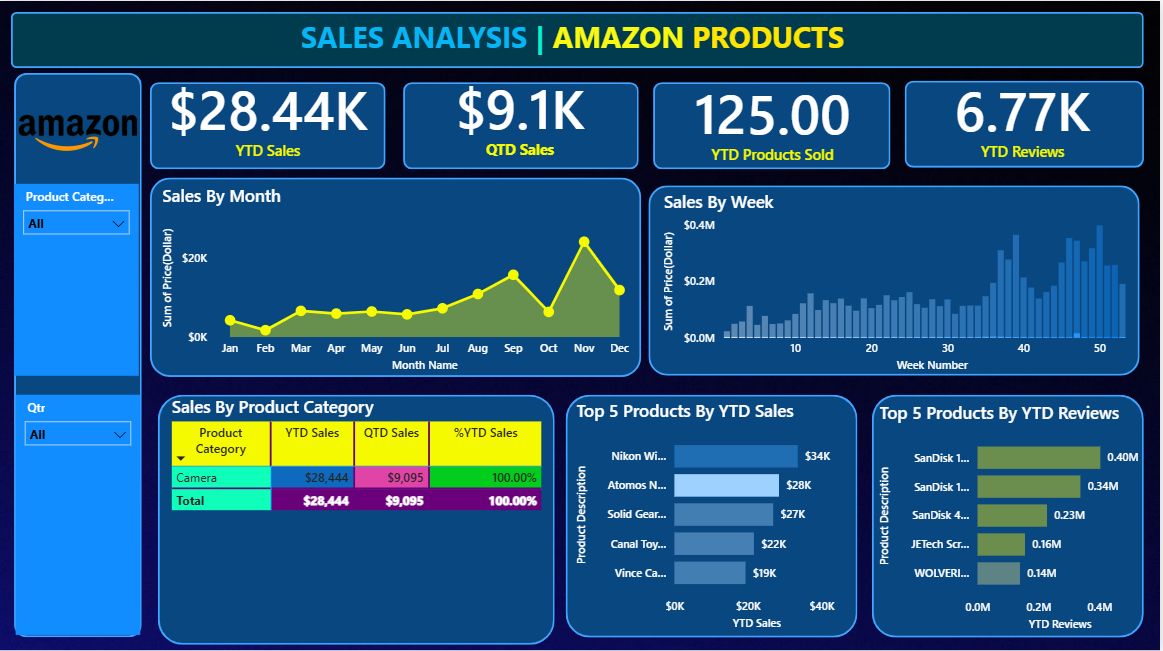

Layout of this report page (visuals, bound fields, positions):
{"tool":"powerbi","page":{"name":"Page 1","canvas":[1280,720],"ordinal":0},"visuals":[{"type":"shape","box":[12,12,1250,62],"z":0},{"type":"textbox","box":[15,12.5,1232.5,77.5],"z":1000},{"type":"shape","box":[15.3,79.8,140.9,622.9],"z":2000},{"type":"shape","box":[166,90,260,96],"z":3000},{"type":"card","fields":{"Values":["Amazon_Data.YTD Sales"]},"box":[166,68,260,118],"z":4000},{"type":"shape","box":[720,90,262,96],"z":5000},{"type":"shape","box":[444,90,260,96],"z":6000},{"type":"card","fields":{"Values":["Amazon_Data.QTD Sales"]},"box":[452,72,244,106],"z":7000},{"type":"shape","box":[998,88,264,96],"z":8000},{"type":"card","fields":{"Values":["Amazon_Data.YTD Products Sold"]},"box":[722,76,260,110],"z":9000},{"type":"card","fields":{"Values":["Amazon_Data.YTD Reviews"]},"box":[998,72,260,110],"z":10000},{"type":"shape","box":[166,194,542,220],"z":11000},{"type":"areaChart","title":"Sales By Month","fields":{"Category":["Date Table.Month Name"],"Y":["Sum(Amazon_Data.Price(Dollar))"]},"box":[174,202,530,212],"z":12000},{"type":"shape","box":[716,204,542,210],"z":13000},{"type":"columnChart","title":"Sales By Week","fields":{"Category":["Date Table.Week Number"],"Y":["Sum(Amazon_Data.Price(Dollar))"]},"box":[728,208,540,206],"z":14000},{"type":"shape","box":[174,434,438,276],"z":15000},{"type":"pivotTable","title":"Sales By Product Category ","fields":{"Rows":["Amazon_Data.Product Category"],"Values":["Amazon_Data.YTD Sales","Amazon_Data.QTD Sales","Amazon_Data.YTD Sales1"]},"box":[184,434,420,286],"z":16000},{"type":"shape","box":[624,434,322,268],"z":17000},{"type":"shape","box":[962,434,300,268],"z":18000},{"type":"clusteredBarChart","title":"Top 5 Products By YTD Sales","fields":{"Category":["Amazon_Data.Product Description"],"Y":["Amazon_Data.YTD Sales"]},"box":[631.2,439.1,314.1,259.4],"z":19000},{"type":"clusteredBarChart","title":"Top 5 Products By YTD Reviews","fields":{"Y":["Amazon_Data.YTD Reviews"],"Category":["Amazon_Data.Product Description"]},"box":[965.3,441.8,314.3,258.2],"z":20000},{"type":"slicer","fields":{"Values":["Amazon_Data.Product Category"]},"box":[15.3,202,137.5,212.1],"z":20501},{"type":"slicer","fields":{"Values":["Date Table.Qtr"]},"box":[17,434.5,137.5,264.8],"z":20502},{"type":"image","box":[15.3,83.2,140.9,125.6],"z":20503}]}

Visuals, with their boxes in screenshot pixels (x1, y1, x2, y2), scaled from the page's 1280x720 canvas onto the 1163x651 screenshot:
shape: 11:11:1147:67
textbox: 14:11:1133:81
shape: 14:72:142:635
shape: 151:81:387:168
card - Amazon_Data.YTD Sales: 151:61:387:168
shape: 654:81:892:168
shape: 403:81:640:168
card - Amazon_Data.QTD Sales: 411:65:632:161
shape: 907:80:1147:166
card - Amazon_Data.YTD Products Sold: 656:69:892:168
card - Amazon_Data.YTD Reviews: 907:65:1143:165
shape: 151:175:643:374
"Sales By Month" areaChart: 158:183:640:374
shape: 651:184:1143:374
"Sales By Week" columnChart: 661:188:1152:374
shape: 158:392:556:642
"Sales By Product Category " pivotTable: 167:392:549:650
shape: 567:392:860:635
shape: 874:392:1147:635
"Top 5 Products By YTD Sales" clusteredBarChart: 574:397:859:632
"Top 5 Products By YTD Reviews" clusteredBarChart: 877:399:1162:633
slicer - Amazon_Data.Product Category: 14:183:139:374
slicer - Date Table.Qtr: 15:393:140:632
image: 14:75:142:189
